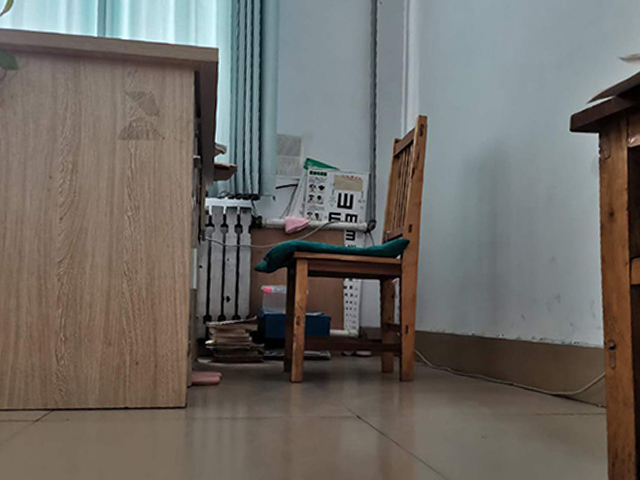book: (202, 314, 272, 366)
cabinet: (1, 25, 221, 412)
stool: (281, 112, 429, 384), (568, 70, 640, 479)
wire: (413, 347, 607, 398)
